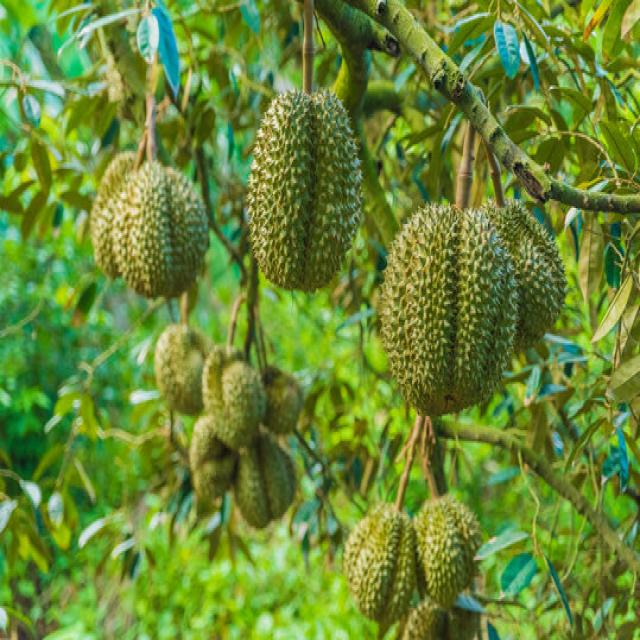immature: (376, 197, 516, 418), (244, 91, 361, 299), (90, 160, 209, 303), (482, 179, 568, 350), (342, 501, 420, 629), (414, 493, 482, 608), (202, 344, 266, 446), (156, 323, 212, 419), (188, 403, 235, 508), (231, 442, 289, 526), (258, 368, 308, 434)
